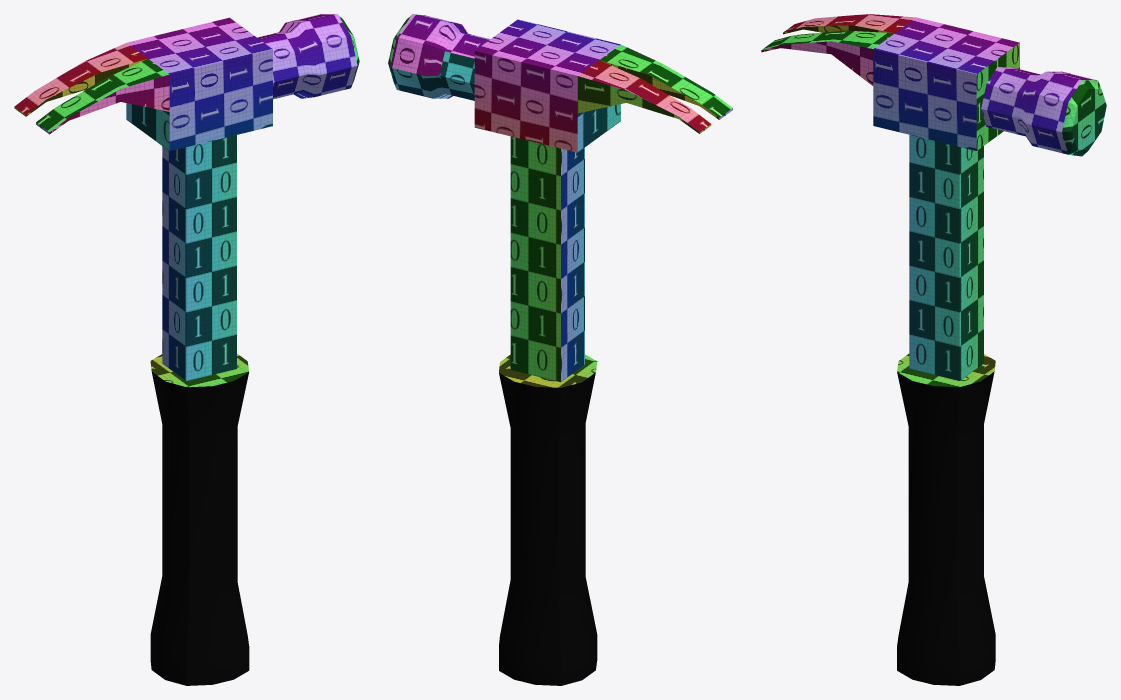
File: Hammer_exp.fbx
3 views of the same model, side by side, from view 1: azimuth 30°, elevation 25°; view 2: azimuth 150°, elevation 25°; view 3: azimuth 330°, elevation 25° (orthographic).
Parts seen in each view (by area): view 1: pCube1; view 2: pCube1; view 3: pCube1.
Boxes of the visible parts, bbox=[...] form: pCube1: bbox=[14, 14, 359, 685]; pCube1: bbox=[388, 14, 732, 685]; pCube1: bbox=[761, 14, 1106, 685].
Size of the model in its own units: 4.98 by 9.45 by 1.3.
